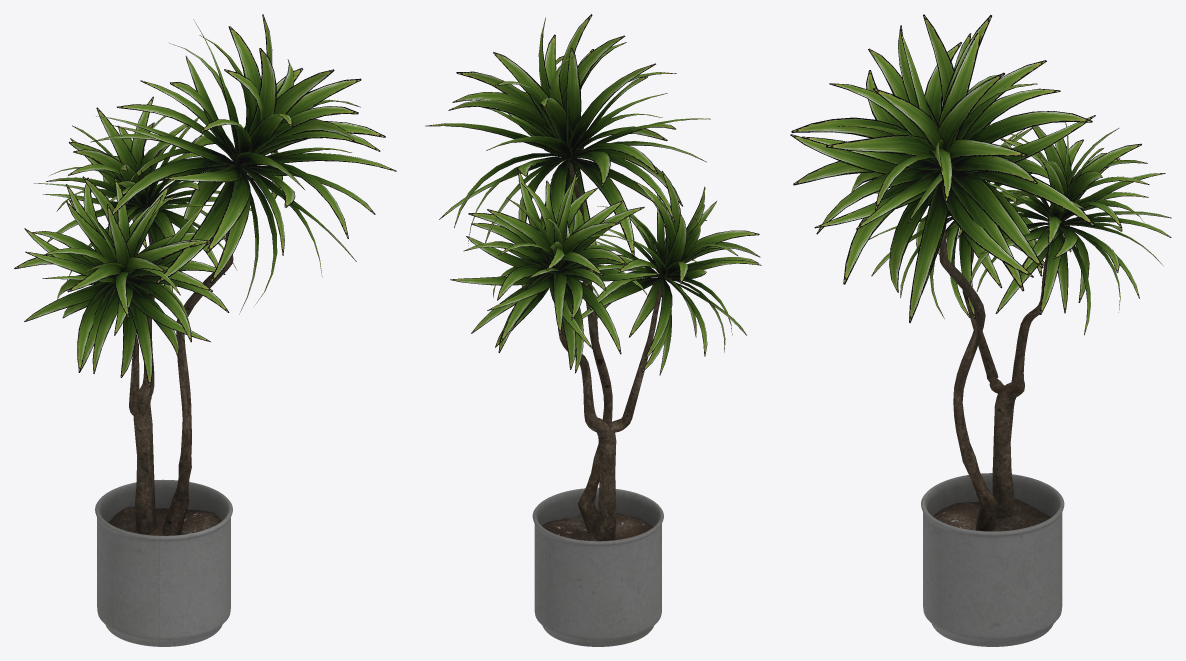
File: tree.glb
3 views of the same model, side by side, from view 1: azimuth 30°, elevation 25°; view 2: azimuth 150°, elevation 25°; view 3: azimuth 270°, elevation 25° (orthographic). The views are drawn at different scales.
Parts seen in each view (by area): view 1: Material1-material, Material0-material; view 2: Material1-material, Material0-material; view 3: Material1-material, Material0-material.
Boxes of the visible parts, x1,y1,x2,y2 form: Material1-material: (14,14,396,386); Material0-material: (95,170,246,646); Material1-material: (425,14,761,375); Material0-material: (532,159,663,646); Material1-material: (790,14,1171,335); Material0-material: (921,228,1064,646).
Size of the model in its own units: 1.48 by 2.59 by 1.44.
Materials: 2 (2 with a texture image).
